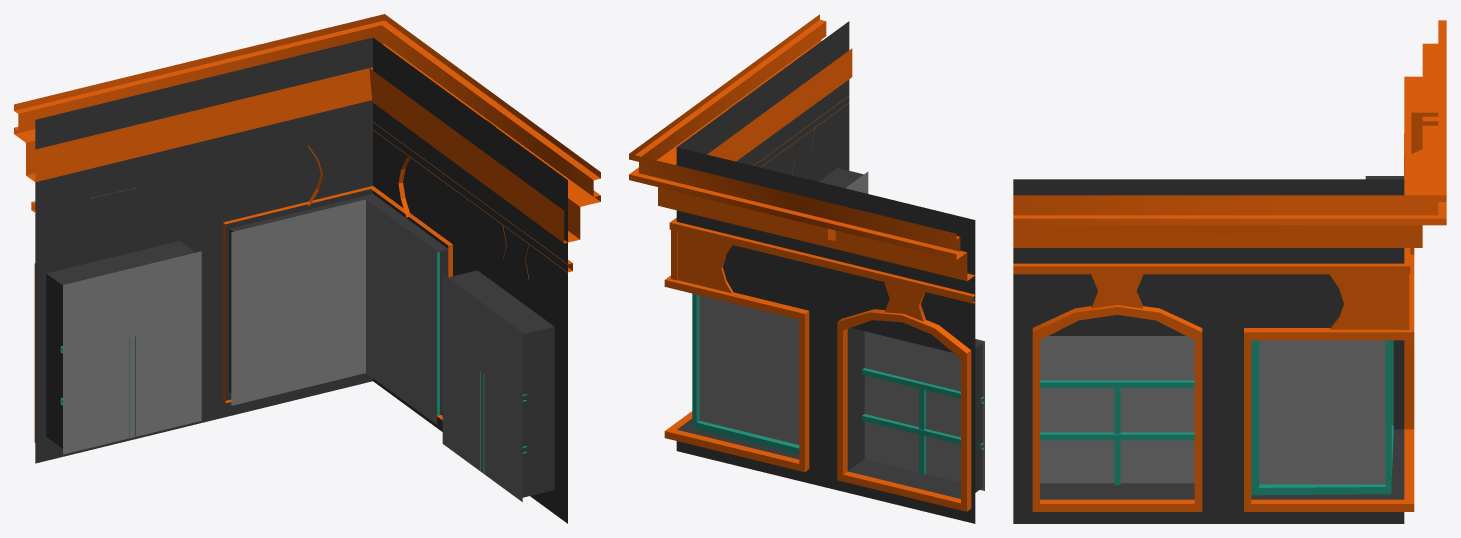
Rendered from SM_T_Corner_Build_01.fbx.
The picture shows the model from 3 angles, left to right: view 1: azimuth 30°, elevation 25°; view 2: azimuth 150°, elevation 25°; view 3: azimuth 270°, elevation 25°; orthographic projection. The views are drawn at different scales.
Visible parts, largest first — view 1: SM_T_Corner_Build_01, Box067; view 2: SM_T_Corner_Build_01, Box067, Box072, Box082, Box077; view 3: SM_T_Corner_Build_01, Box067, Box072, Box076, Box068.
Part boxes in pixels (x1,y1,x2,y2): SM_T_Corner_Build_01: (34, 37, 567, 523); Box067: (14, 14, 600, 243); SM_T_Corner_Build_01: (664, 21, 984, 523); Box067: (629, 14, 974, 280); Box072: (669, 96, 975, 303); Box082: (862, 368, 983, 475); Box077: (884, 282, 925, 321); SM_T_Corner_Build_01: (1013, 176, 1414, 523); Box067: (1013, 20, 1446, 247); Box072: (1013, 248, 1410, 274); Box076: (1040, 380, 1194, 485); Box068: (1091, 274, 1143, 308).
Size of the model in its own units: 589 by 521 by 593.
